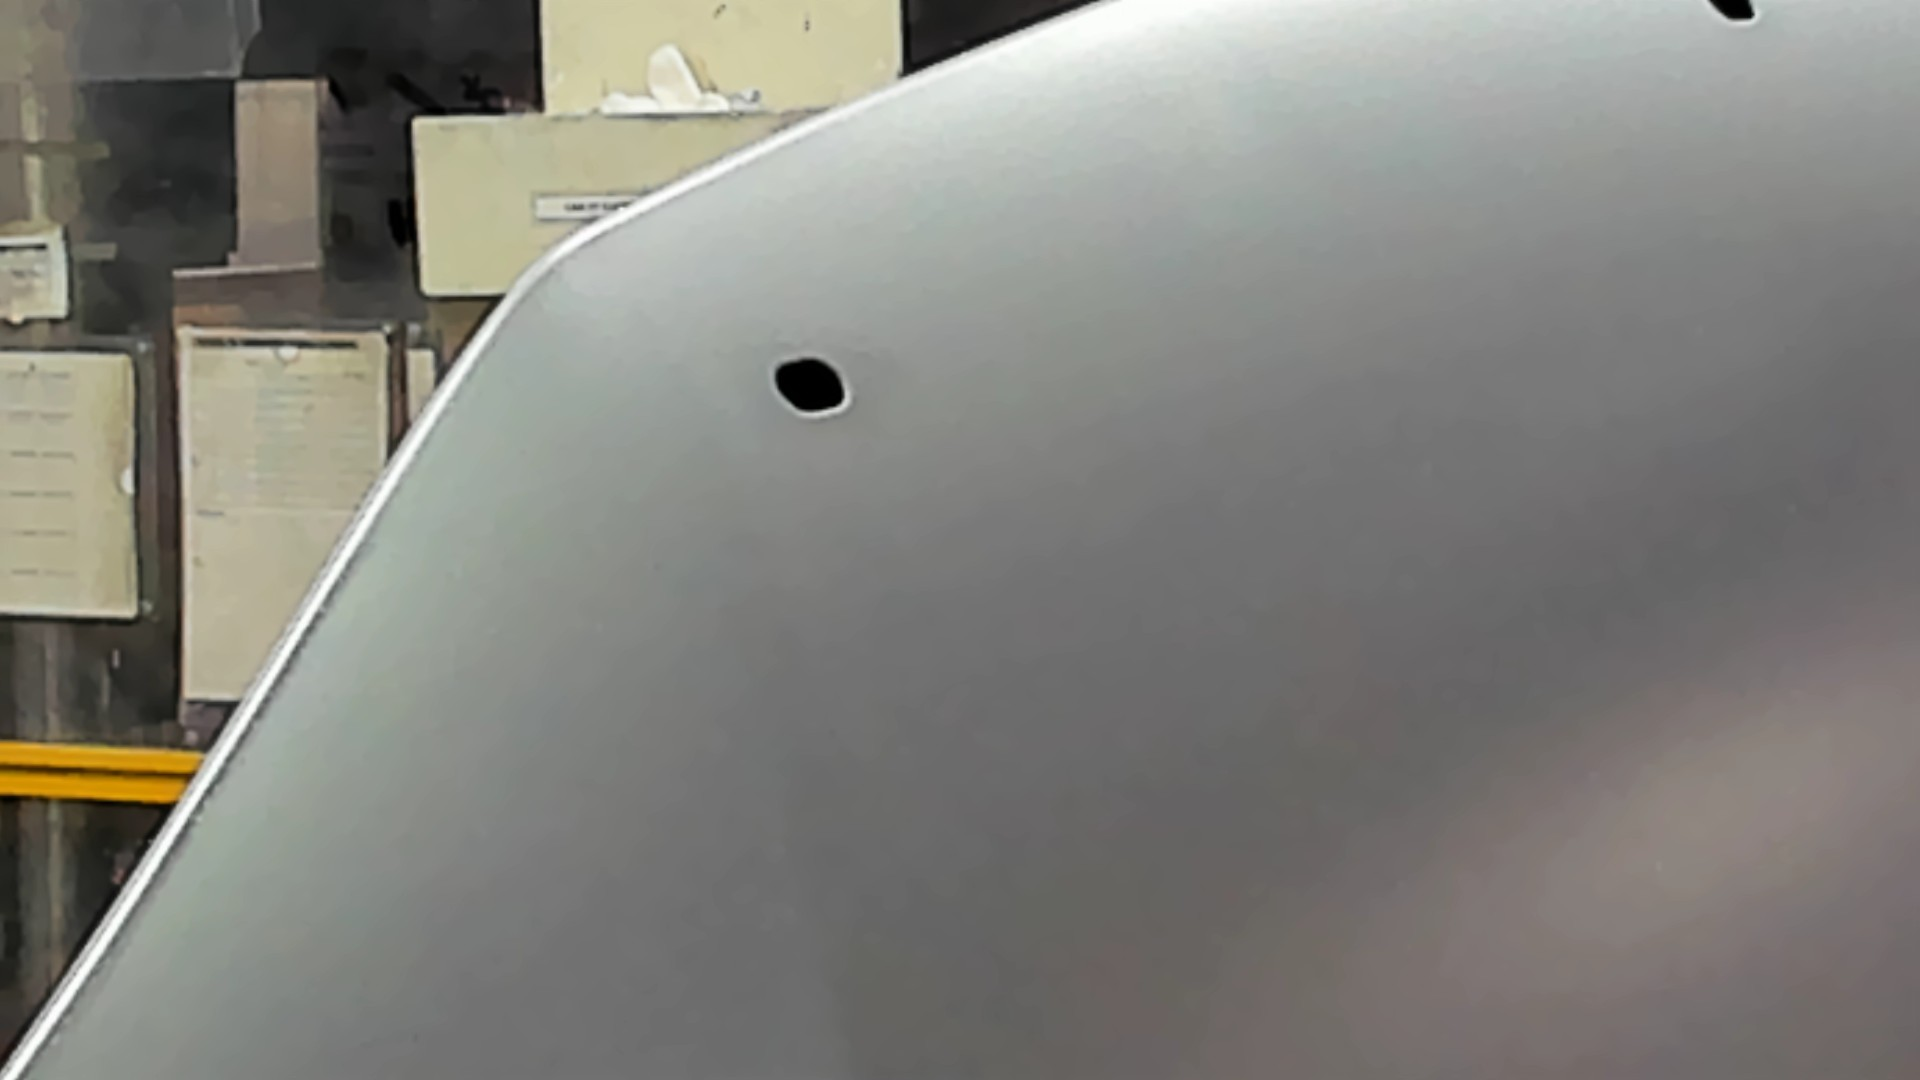amorfo: (760, 349, 862, 425), (1693, 1, 1774, 32)
capo: (957, 117, 1920, 1080)
